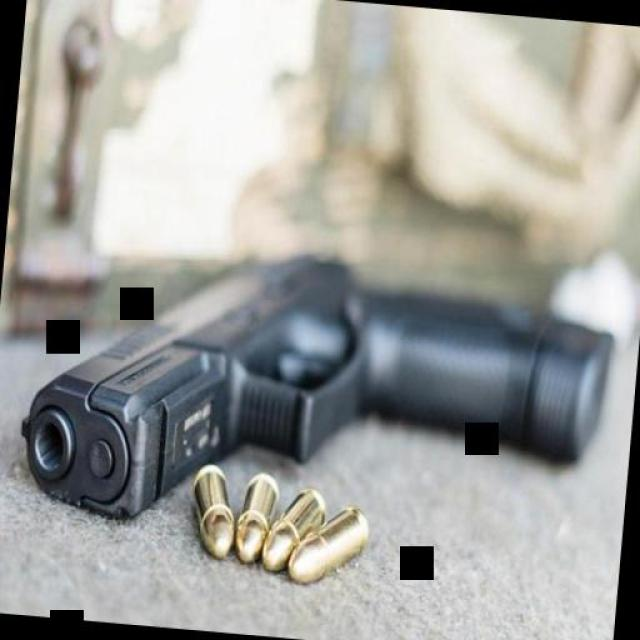gun: (10, 221, 624, 565)
